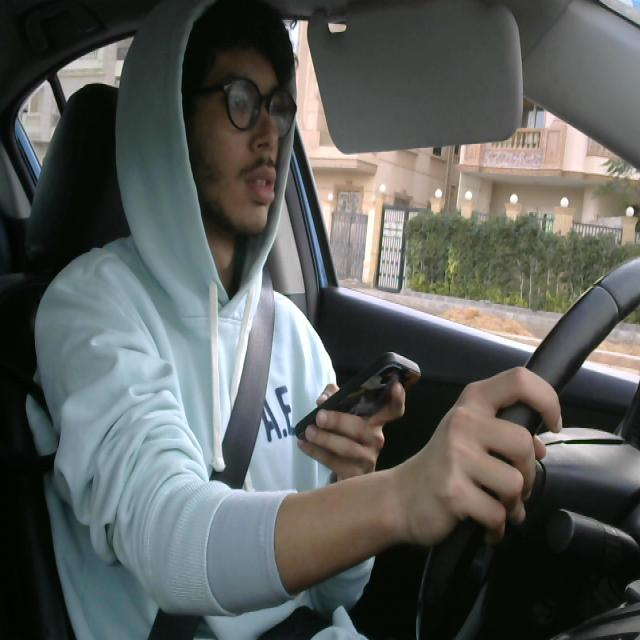mobile use: (288, 351, 419, 456)
